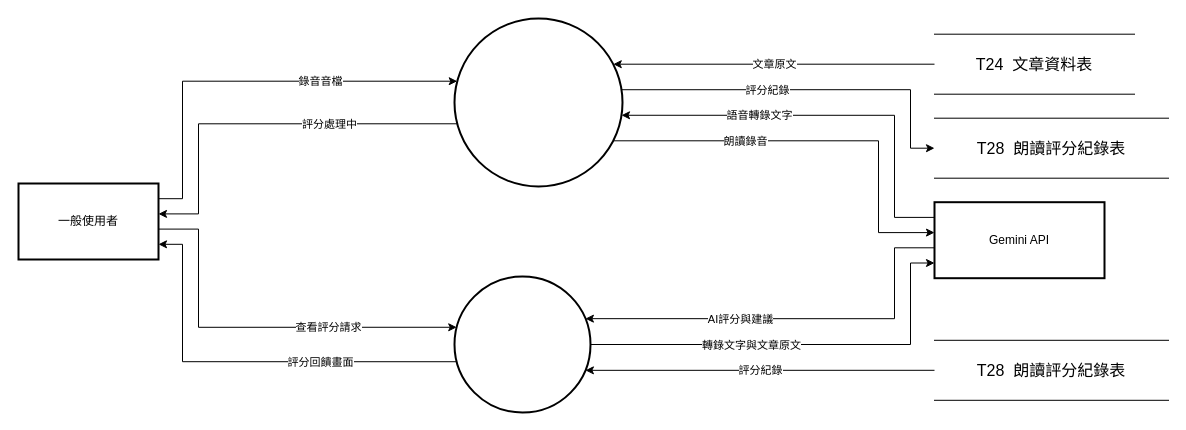
Some shapes in this 1186 by 430 pixel diagram are drawn without their labels. The centre of each missing label's shape, as x and y in pixels:
"A11.3.1 新增朗讀語音輸入" goes at pixel 538 102.
"A11.3.2 查詢AI語音評分結果" goes at pixel 522 344.
